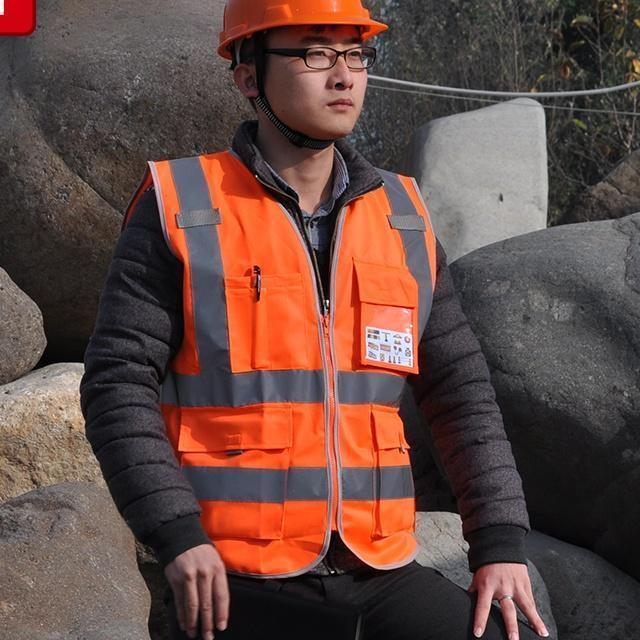Hardhat: (211, 0, 387, 43)
NO-Mask: (266, 83, 364, 134)
Person: (80, 0, 614, 640)
Safety Vest: (125, 150, 426, 572)
